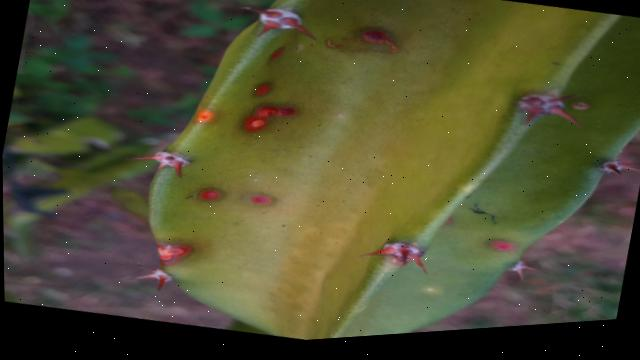stemcanker: (237, 96, 299, 135), (350, 22, 404, 58), (485, 221, 520, 266), (188, 180, 225, 208), (244, 79, 279, 105), (242, 189, 277, 211), (266, 45, 293, 66), (192, 109, 218, 125)
